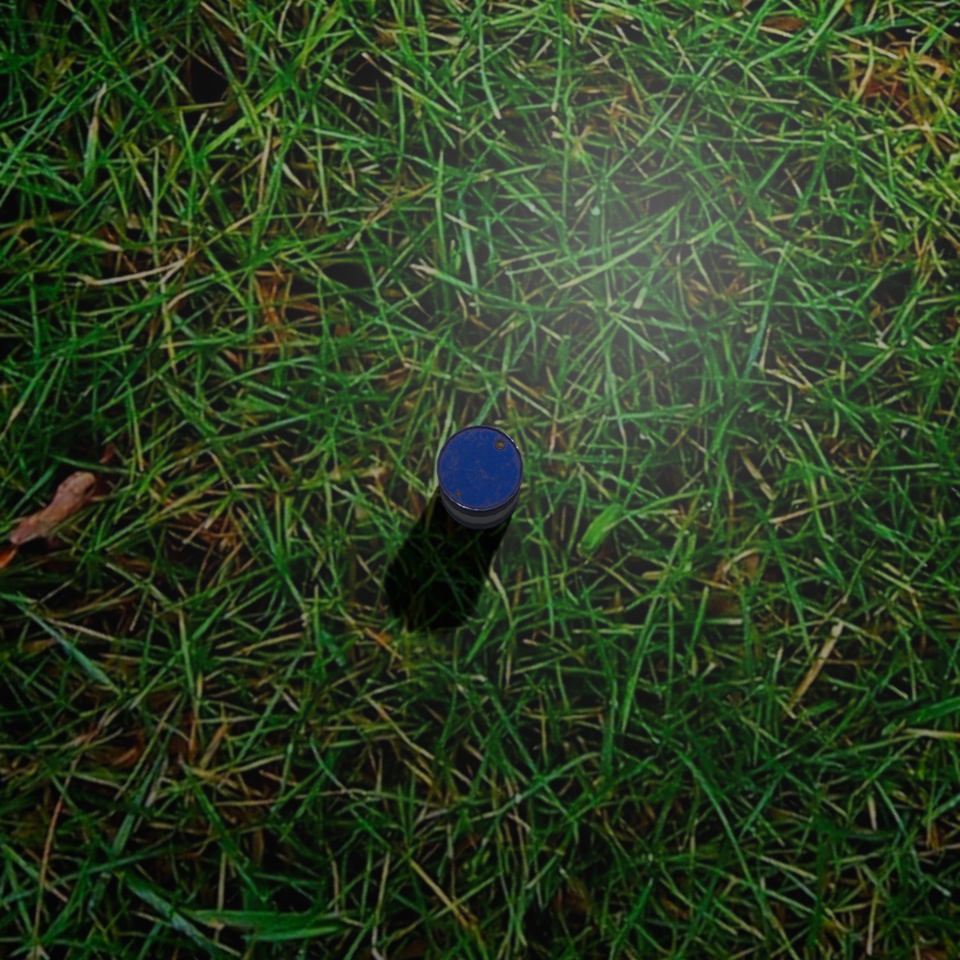circle: (435, 423, 522, 533)
